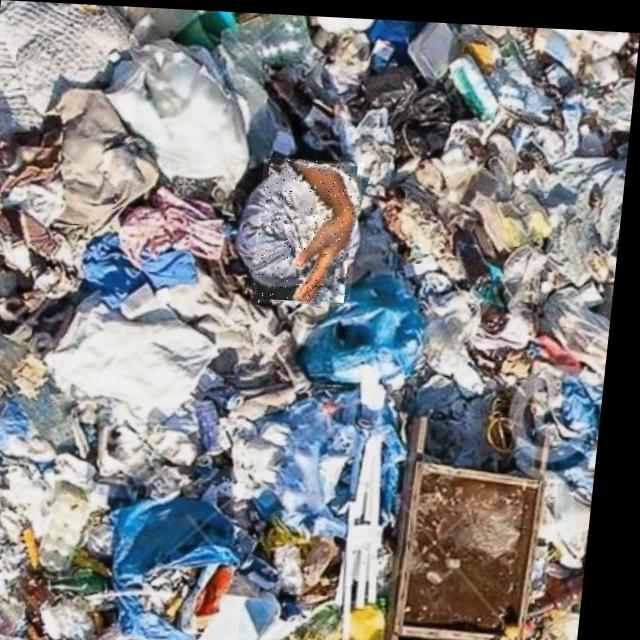Person in Rubble: (254, 154, 366, 303)
